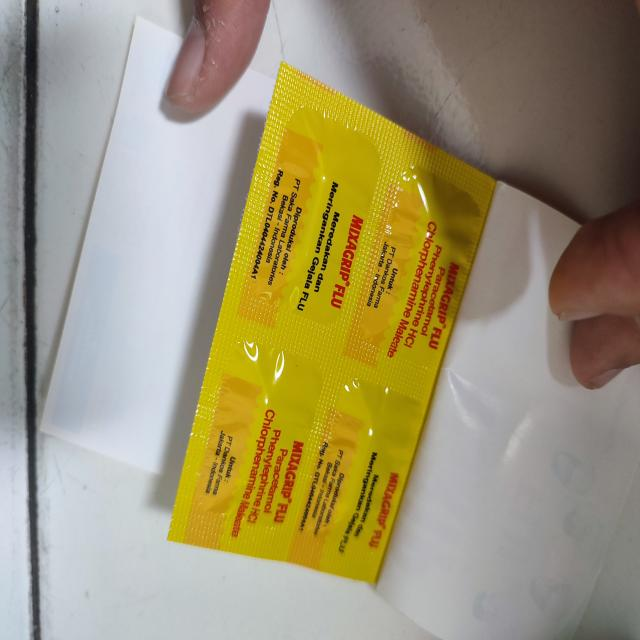B3: (40, 17, 640, 640)
